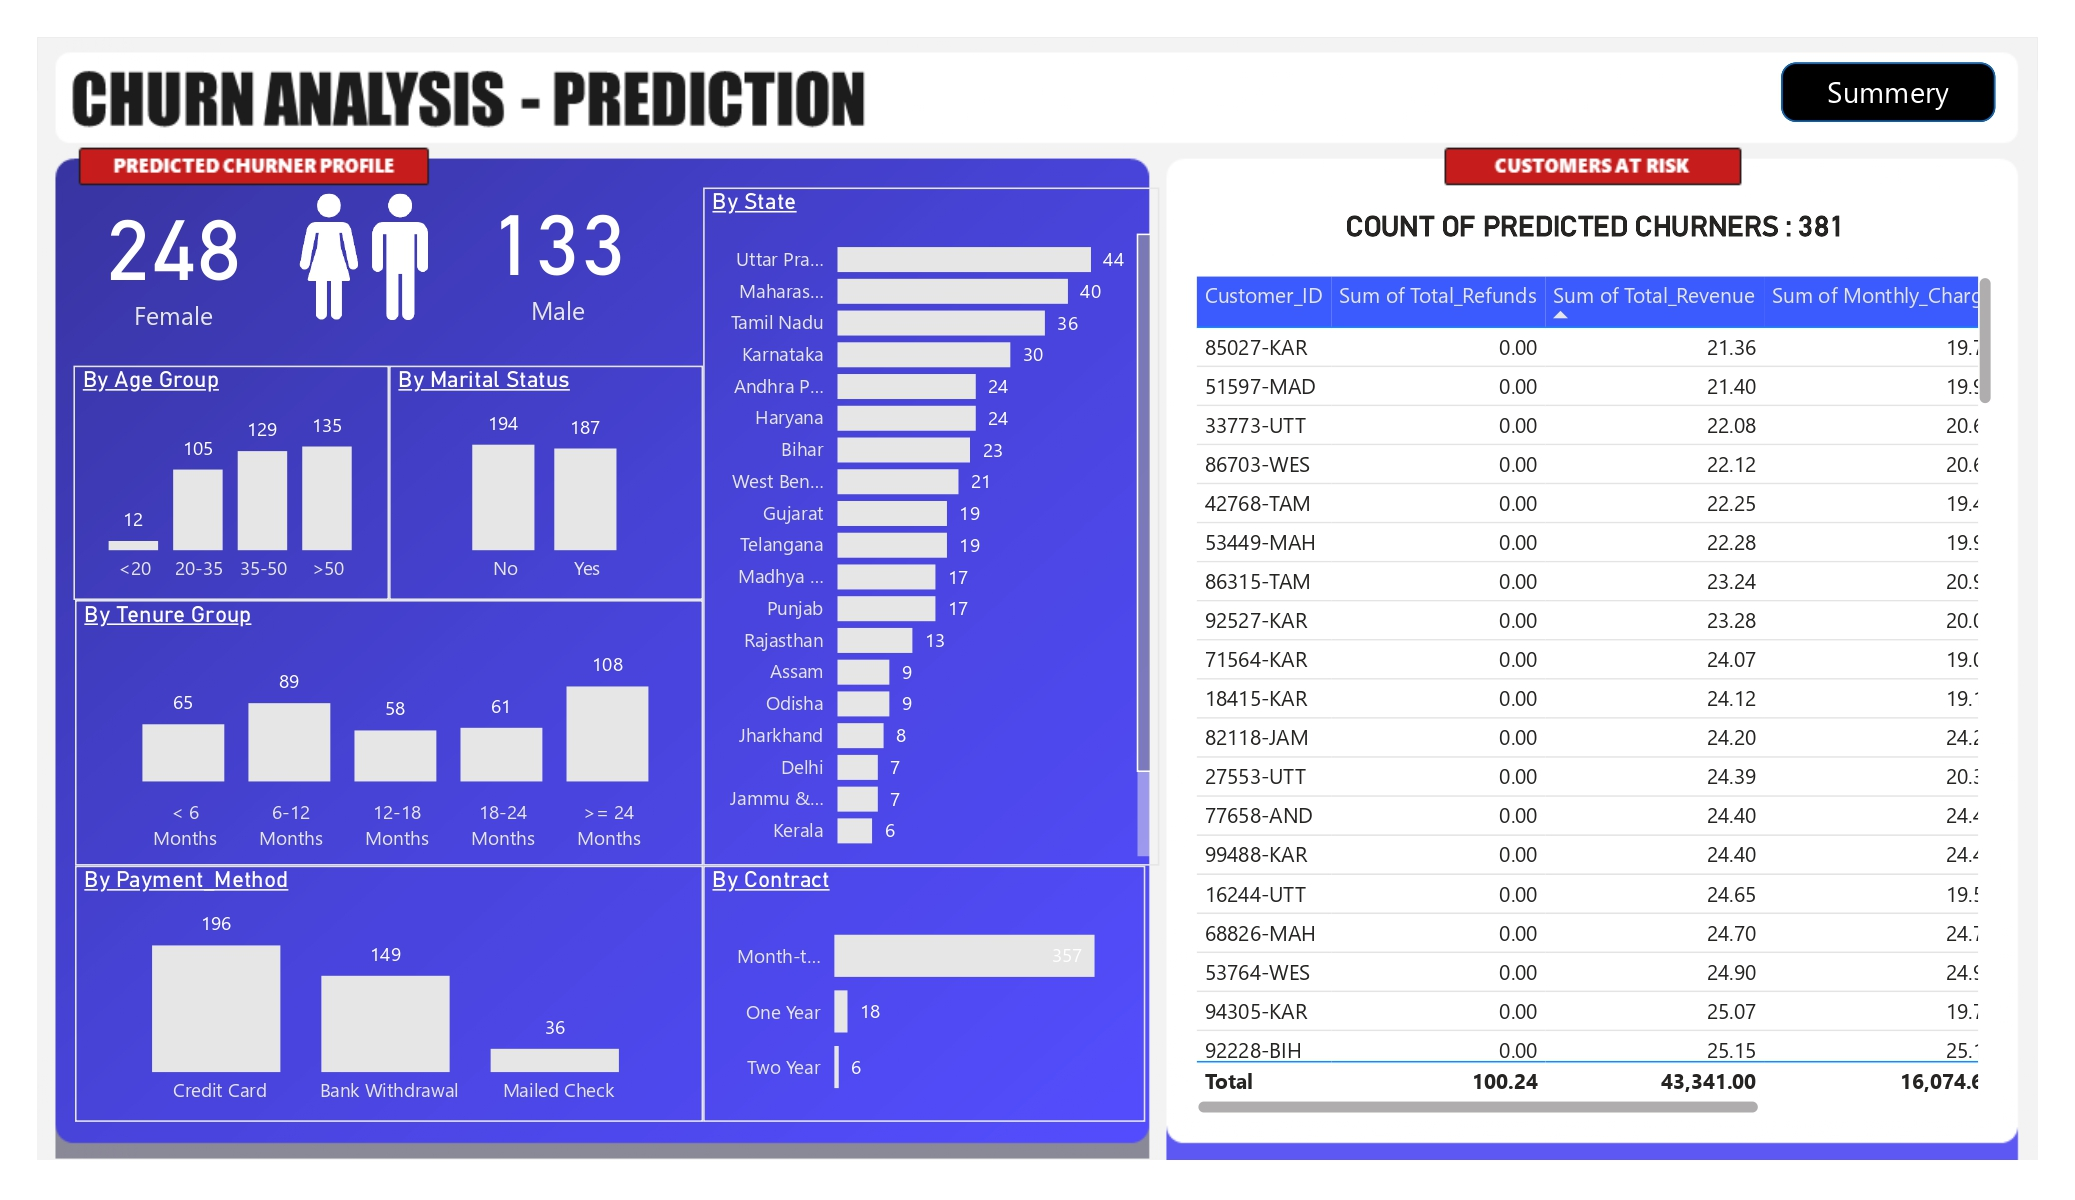

What the dashboard file says about the page in this screenshot:
{"tool":"powerbi","page":{"name":"Churner Prediction","canvas":[1280,720],"ordinal":2},"visuals":[{"type":"card","fields":{"Values":["Predictions.Title Predicted Churner"]},"box":[761.2,106.2,471.2,30],"z":0},{"type":"tableEx","fields":{"Values":["Predictions.Customer_ID","Sum(Predictions.Total_Refunds)","Sum(Predictions.Total_Revenue)","Sum(Predictions.Monthly_Charge)","Sum(Predictions.Number_of_Referrals)"]},"box":[736.2,147.5,520,546.2],"z":1000},{"type":"card","fields":{"Values":["Predictions.Count Predicted Churner"]},"box":[23.8,86.2,126.2,106.2],"z":2000},{"type":"card","fields":{"Values":["Predictions.Count Predicted Churner"]},"box":[182.5,80,300,112.5],"z":3000},{"type":"clusteredColumnChart","title":"By Age Group","fields":{"Category":["mapping_AgeGrp.Age Group"],"Y":["CountNonNull(Predictions.Customer_ID)"]},"box":[22.5,210,202.5,150],"z":4000},{"type":"clusteredColumnChart","title":"By Tenure Group","fields":{"Y":["CountNonNull(Predictions.Customer_ID)"],"Category":["mapping_TenureGrp.Tenure Group"]},"box":[23.8,360,402.5,170],"z":5000},{"type":"clusteredColumnChart","title":"By Payment_Method","fields":{"Y":["CountNonNull(Predictions.Customer_ID)"],"Category":["Predictions.Payment_Method"]},"box":[23.8,530,402.5,163.8],"z":6000},{"type":"clusteredColumnChart","title":"By Marital Status","fields":{"Y":["CountNonNull(Predictions.Customer_ID)"],"Category":["Predictions.Married"]},"box":[225,210,201.2,150],"z":7000},{"type":"clusteredBarChart","title":"By Contract","fields":{"Category":["Predictions.Contract"],"Y":["CountNonNull(Predictions.Customer_ID)"]},"box":[426.2,530,282.5,163.8],"z":8000},{"type":"clusteredBarChart","title":"By State","fields":{"Category":["prod_Churn.State"],"Y":["CountNonNull(Predictions.Customer_ID)"]},"box":[426.2,96.2,291.2,433.8],"z":9000},{"type":"image","box":[53.8,82.5,308.8,113.8],"z":10000},{"type":"shape","box":[1115.7,15.7,137.1,38.6],"z":11000}]}

Visuals, with their boxes in screenshot pixels (x1, y1, x2, y2):
card - Predictions.Title Predicted Churner: [1227,203,1963,250]
tableEx - Predictions.Customer_ID x Sum(Predictions.Total_Refunds): [1188,268,2000,1121]
card - Predictions.Count Predicted Churner: [75,172,272,338]
card - Predictions.Count Predicted Churner: [323,162,791,338]
"By Age Group" clusteredColumnChart: [73,366,389,600]
"By Tenure Group" clusteredColumnChart: [75,600,704,866]
"By Payment_Method" clusteredColumnChart: [75,866,704,1122]
"By Marital Status" clusteredColumnChart: [389,366,703,600]
"By Contract" clusteredBarChart: [703,866,1145,1122]
"By State" clusteredBarChart: [703,188,1158,866]
image: [122,166,604,344]
shape: [1781,62,1995,122]
